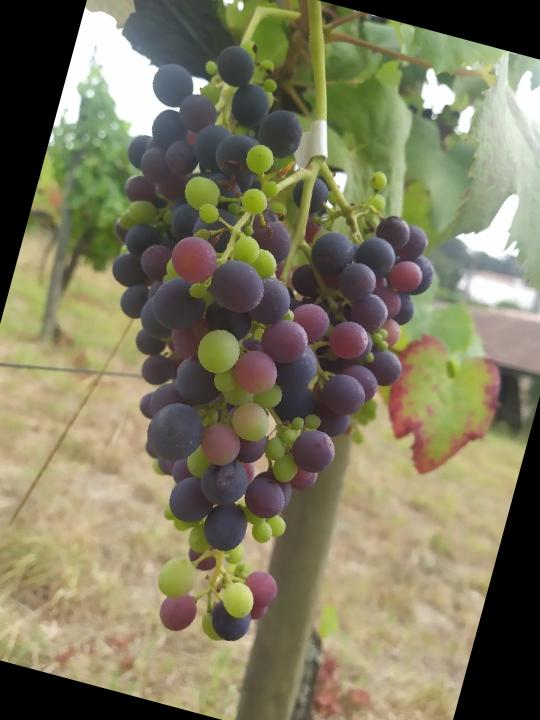grape: (7, 13, 485, 675)
